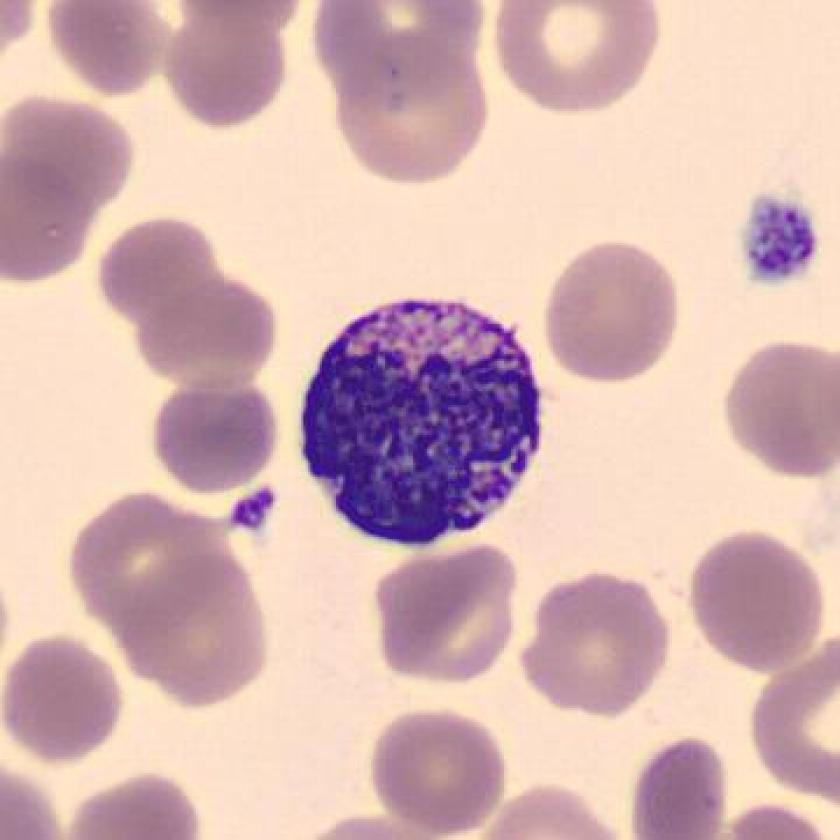basophil: (295, 291, 545, 557)
